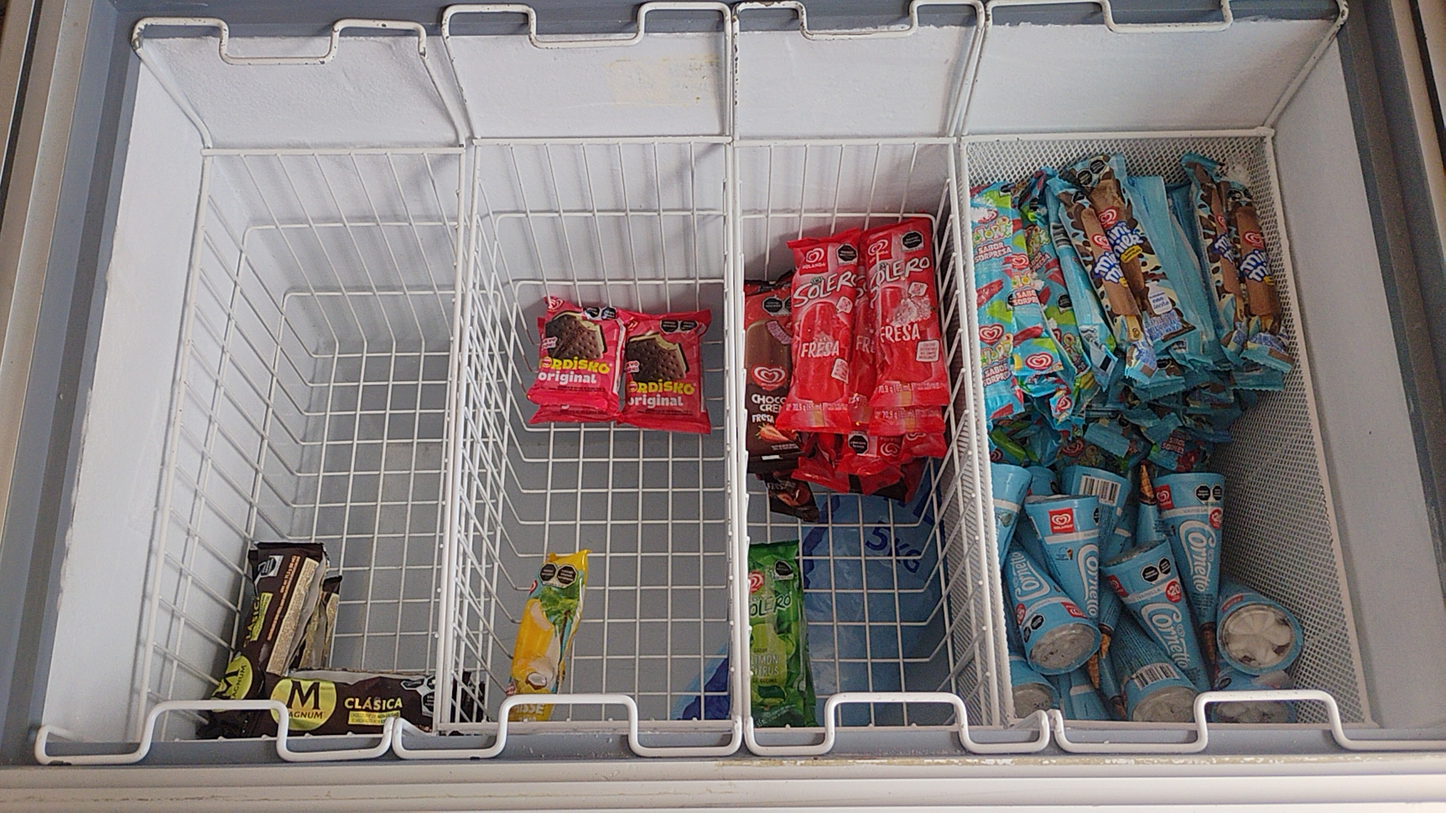rejilla: (1269, 137, 1370, 721), (134, 159, 210, 742), (963, 152, 1012, 717), (950, 146, 997, 723), (443, 146, 479, 723), (435, 155, 464, 727), (727, 146, 741, 715), (736, 149, 748, 715), (964, 131, 1271, 140), (475, 138, 729, 143), (735, 140, 952, 145), (205, 150, 462, 154), (1066, 722, 1193, 727), (509, 723, 627, 727), (1209, 725, 1329, 728), (837, 727, 956, 730), (640, 723, 732, 726), (441, 725, 496, 729), (756, 728, 824, 731), (1344, 724, 1368, 728), (971, 727, 997, 729)
